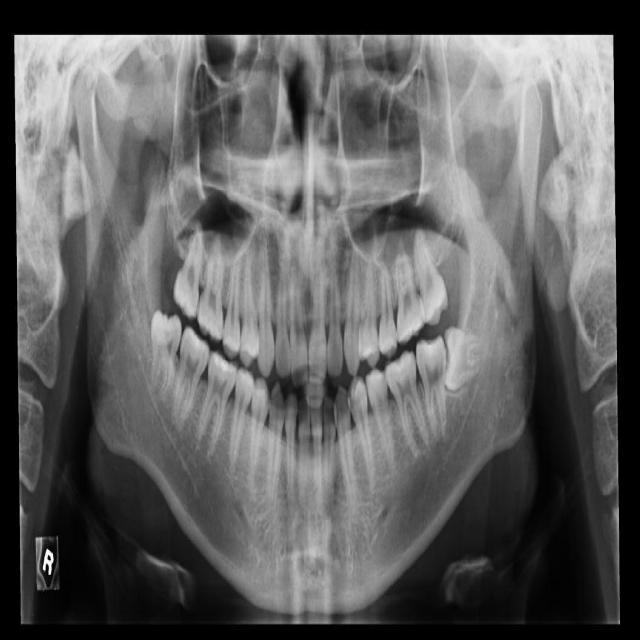73: (598, 600, 606, 609)
BioHorizons Implant: (411, 224, 451, 327)
Biomet 3i Implant: (443, 323, 482, 394)
Blue Sky Bio Implant: (412, 335, 463, 440)
Caries: (172, 221, 204, 321)
Implant: (169, 326, 213, 426)
Keystone Dental Implant: (150, 311, 182, 397)
